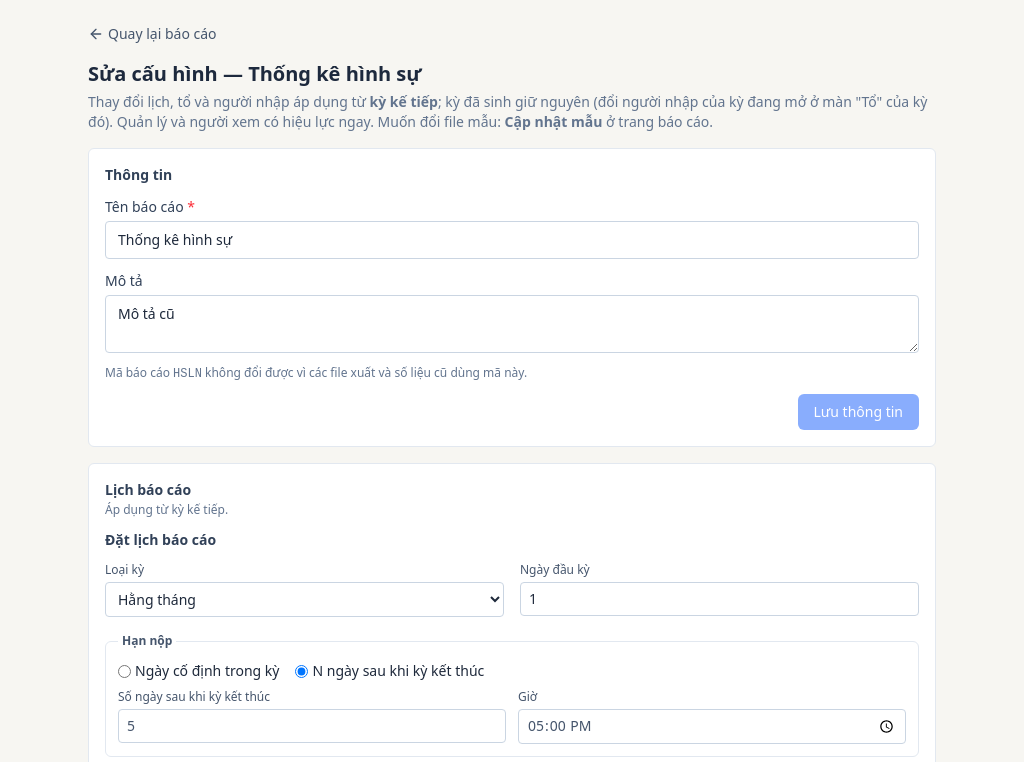
ReportEditPage — "Sửa cấu hình" › when somebody else changed the report first, the conflict is explained and reloading brings their version
Step 1. Replace the text in the field with test id "edit-name" with "Tên mới" → [512, 240], box [105, 221, 919, 259]
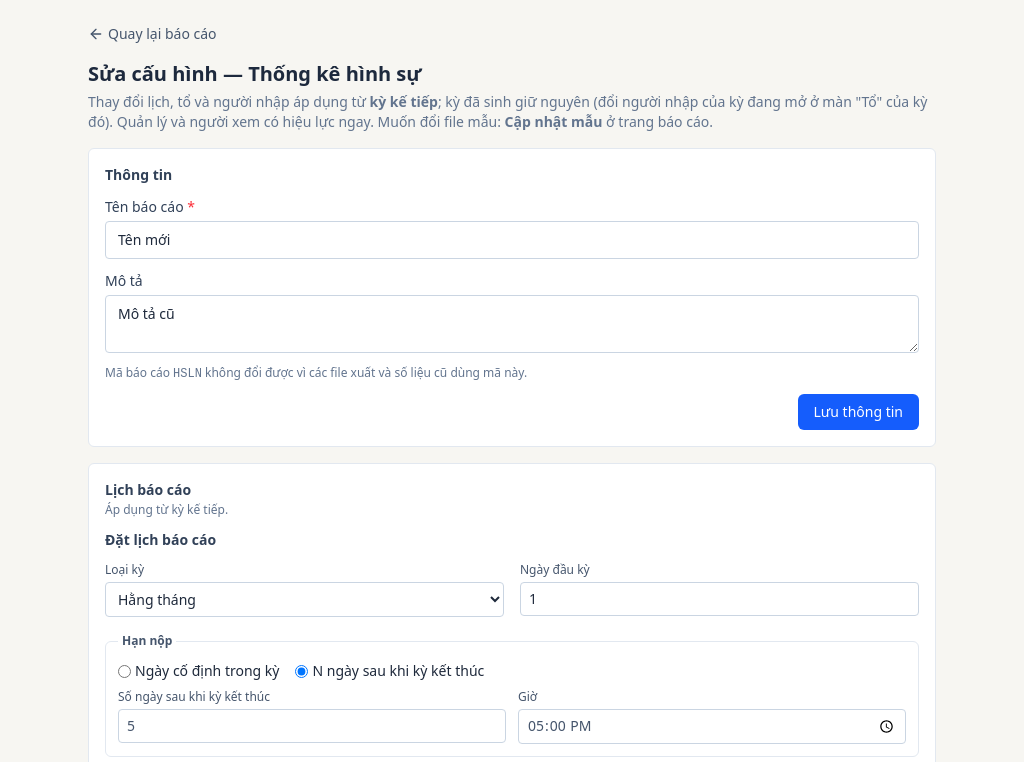
Step 2. Click the button with test id "btn-save-info" → [858, 412], box [798, 394, 919, 430]
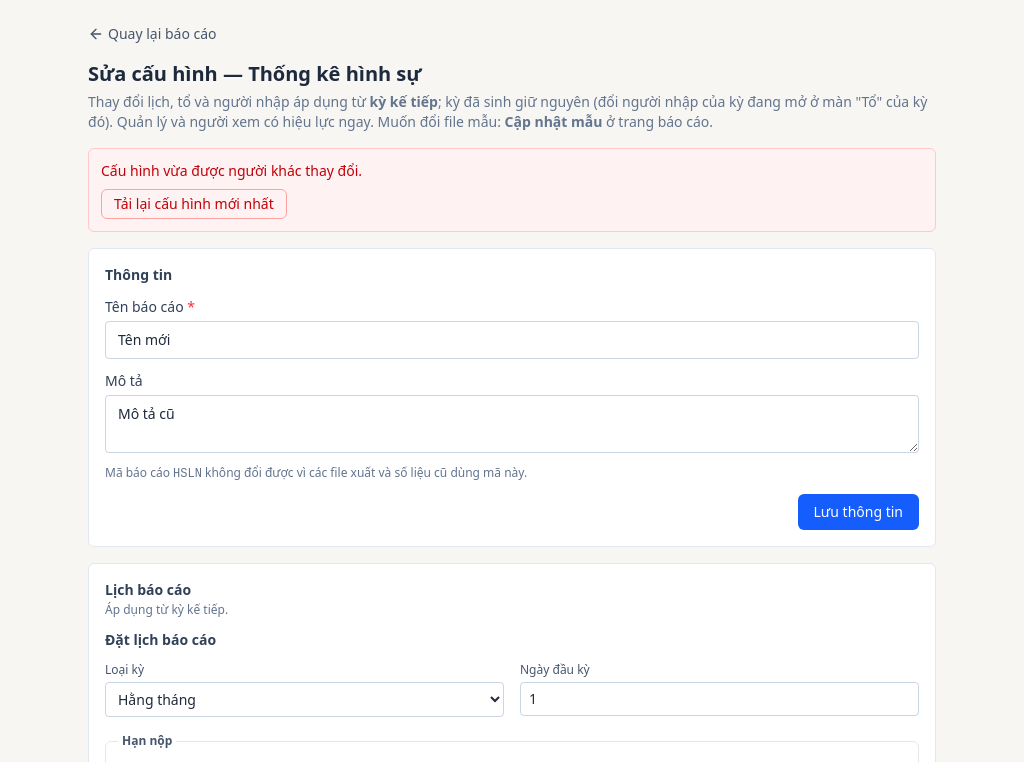
Check: the element with test id "edit-save-error" shows "người khác", box [101, 161, 362, 180]
Step 3. Click the button with test id "btn-reload" → [194, 204], box [101, 189, 287, 219]
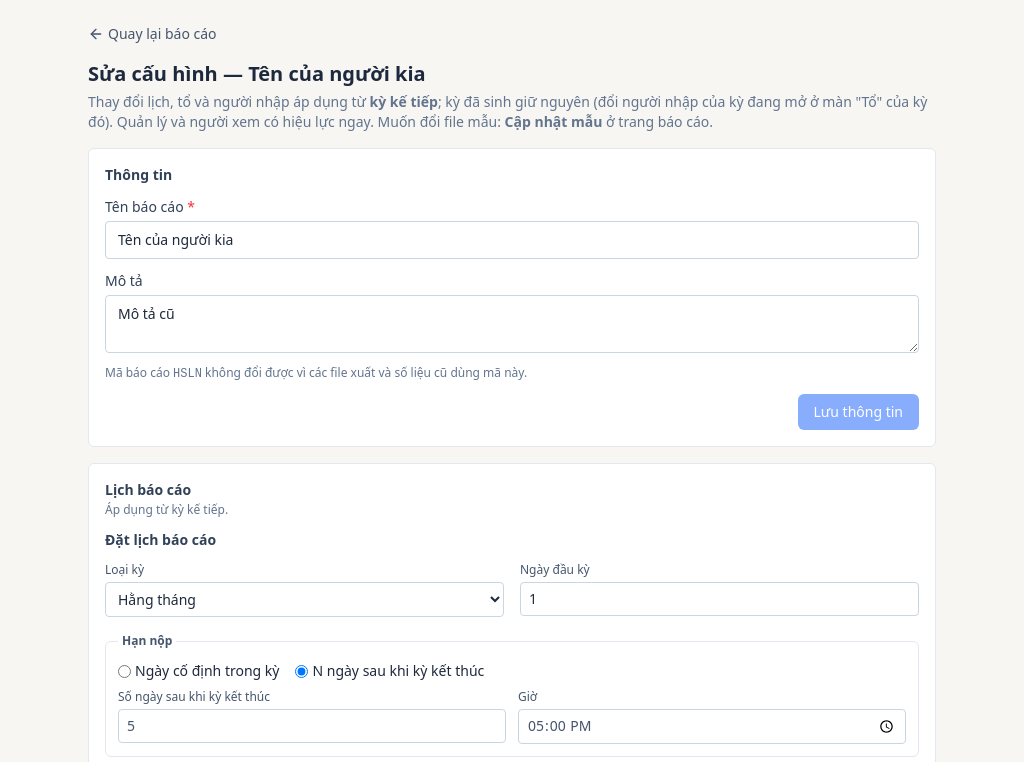
Check: the field with test id "edit-name" holds "Tên của người kia", box [105, 221, 919, 259]
